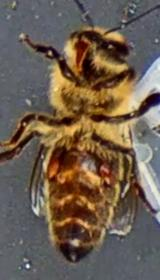varroa_mite: (86, 155, 122, 194), (40, 142, 72, 182)
